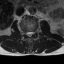CCS_normal: (28, 29, 30, 39)
LFS_stenosis: (33, 29, 36, 37)
LLS_normal: (30, 30, 33, 37)
RFS_stenosis: (24, 30, 26, 38)
RLS_normal: (26, 30, 28, 38)
